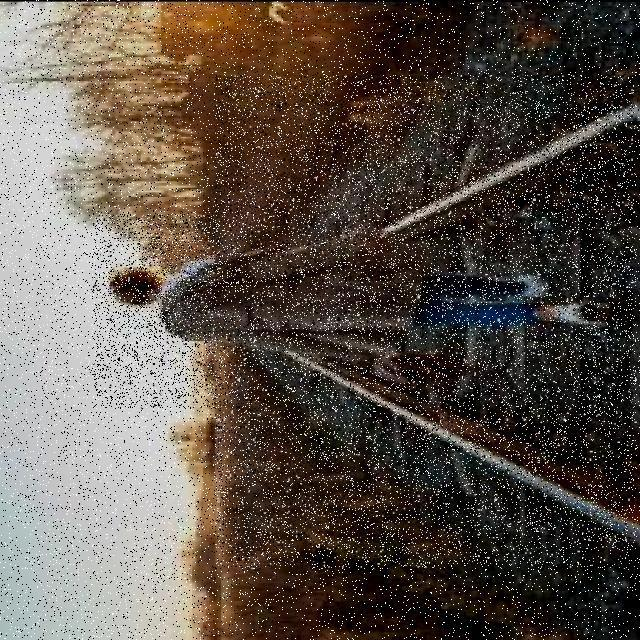danger: (93, 214, 624, 408)
rail: (216, 75, 636, 569)
